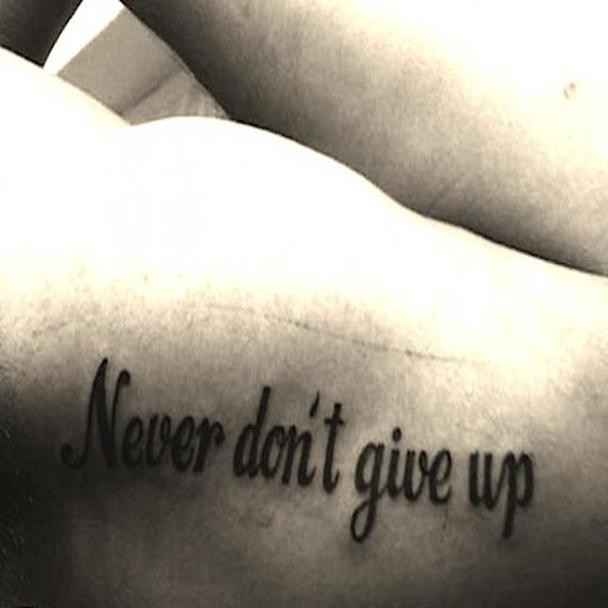tattoos: (60, 354, 537, 543)
